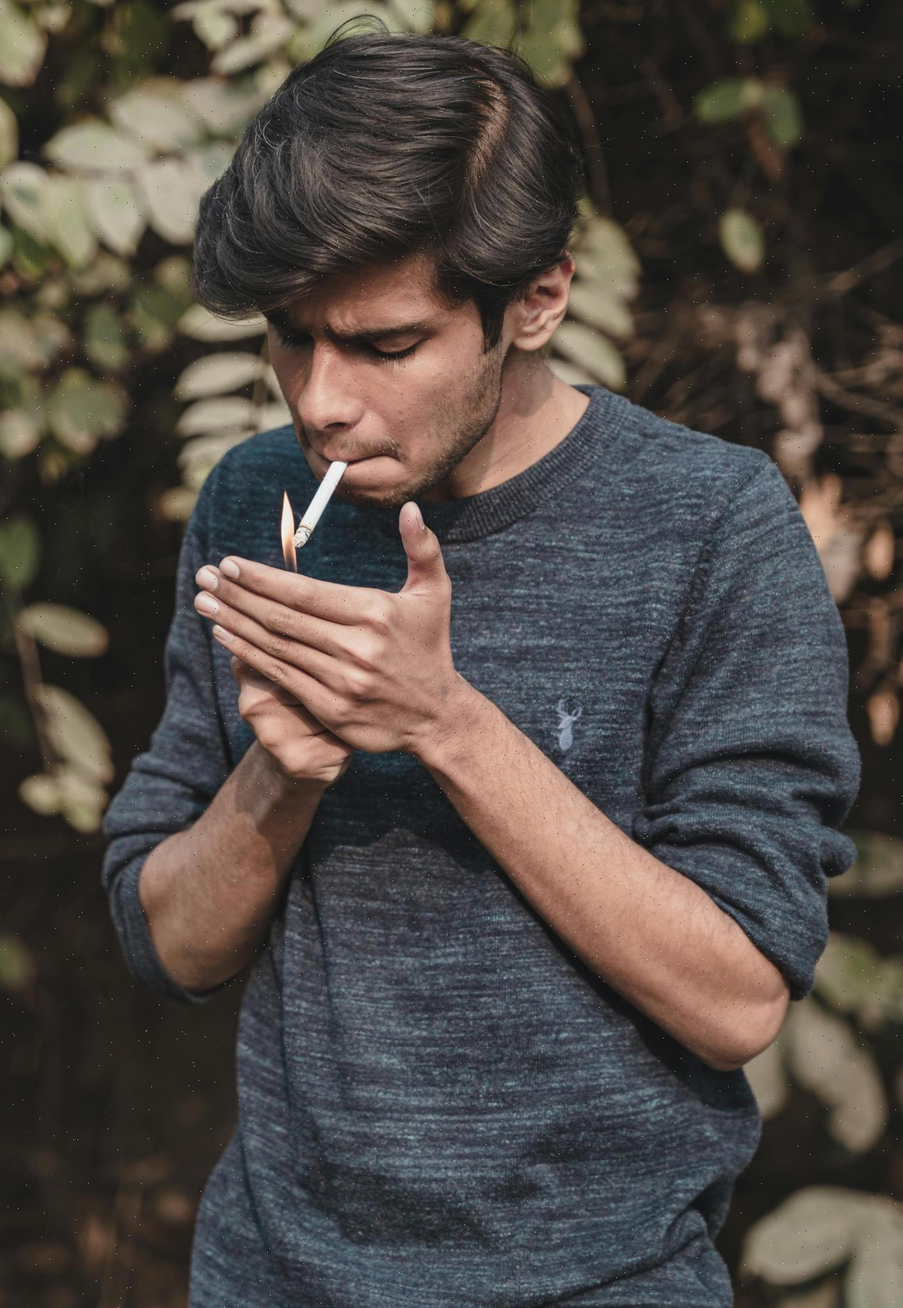cigarette: (293, 461, 347, 548)
